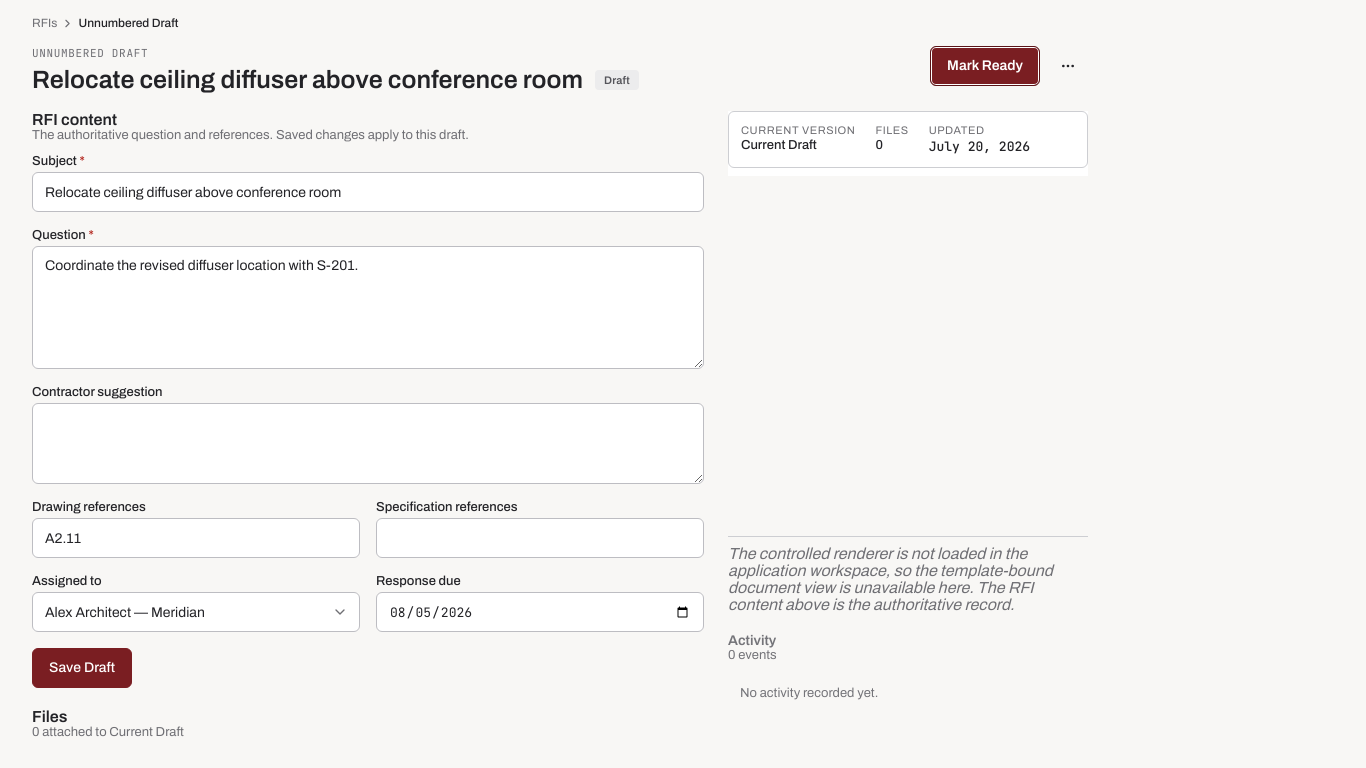
Test: RFI workspace — mark ready confirmation › explains the lock, the absent number, and the separate issue action
Expected: the header with class "base-workspace__identity" is shown, [32,46,1088,95]
Click the button "Mark ready" at (985, 66), box [930,46,1040,86]
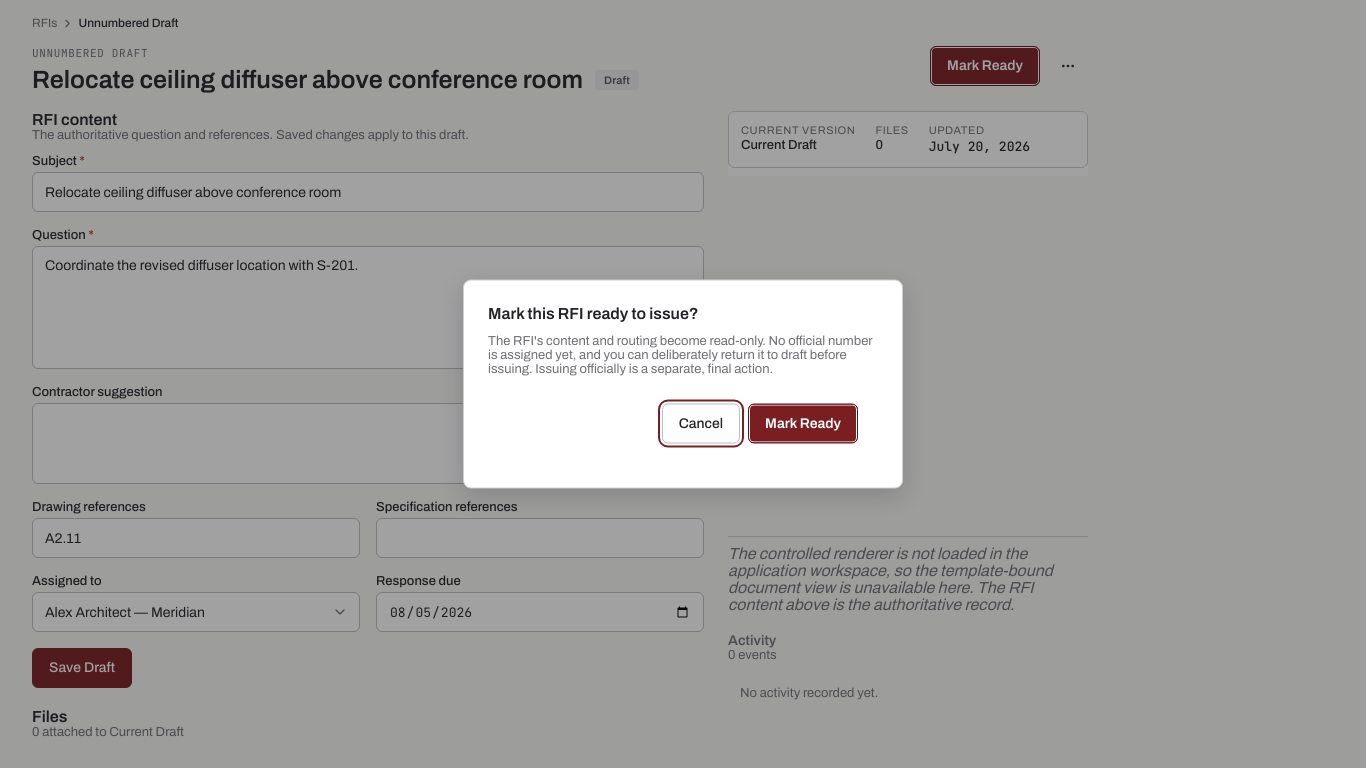
Expected: the heading "Mark this RFI ready to issue?" is shown, [488,304,699,322]
Expected: the dialog shows "read-only", [488,334,872,376]
Expected: the dialog shows "No official number is assigned yet", [488,334,872,376]
